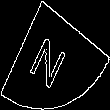N_NE: (32, 23, 78, 87)
